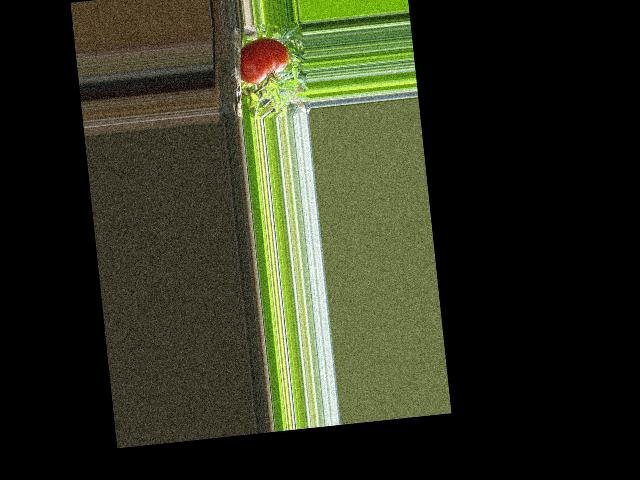tomato: (236, 36, 291, 85)
